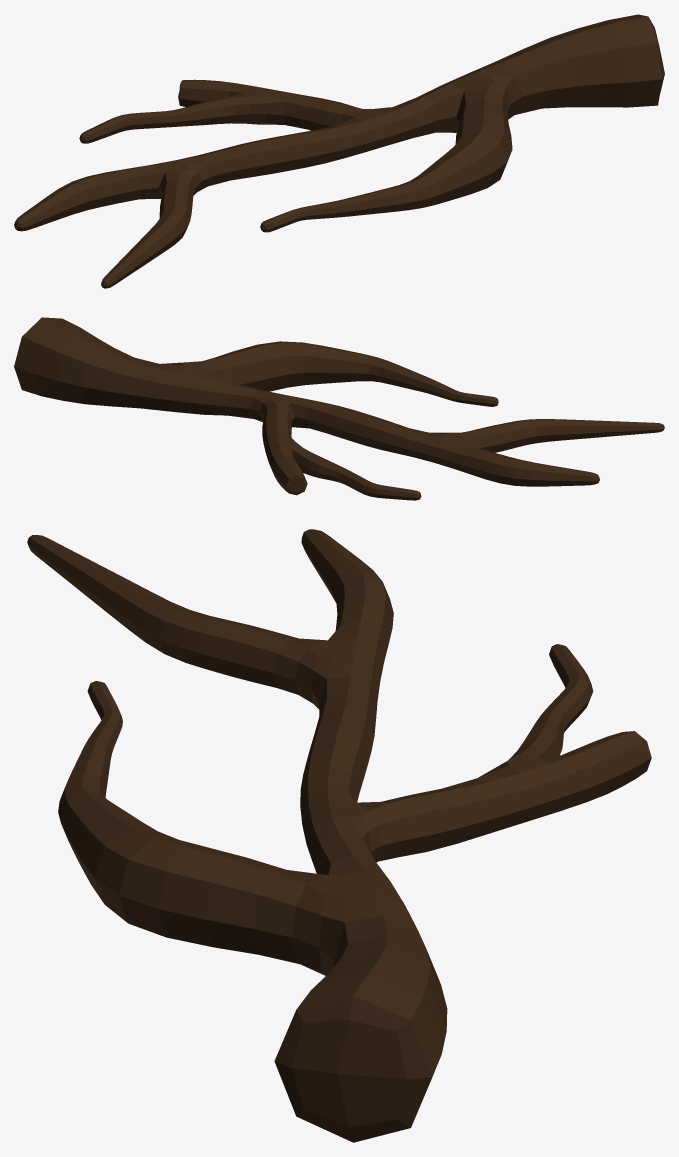
Rendered from rama.fbx.
3 views of the same model, one above another, from view 1: azimuth 30°, elevation 25°; view 2: azimuth 150°, elevation 25°; view 3: azimuth 270°, elevation 25° (orthographic). The views are drawn at different scales.
Visible parts, largest first — view 1: Rama; view 2: Rama; view 3: Rama.
Part boxes in pixels (bbox=[...]): Rama: bbox=[14, 14, 664, 288]; Rama: bbox=[14, 317, 664, 500]; Rama: bbox=[27, 529, 651, 1142].
Size of the model in its own units: 0.4394 by 0.1143 by 0.9055.
